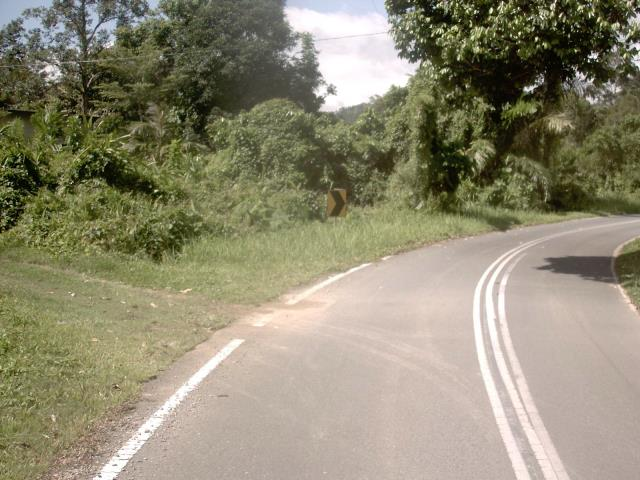traffic_sign: (318, 180, 355, 228)
